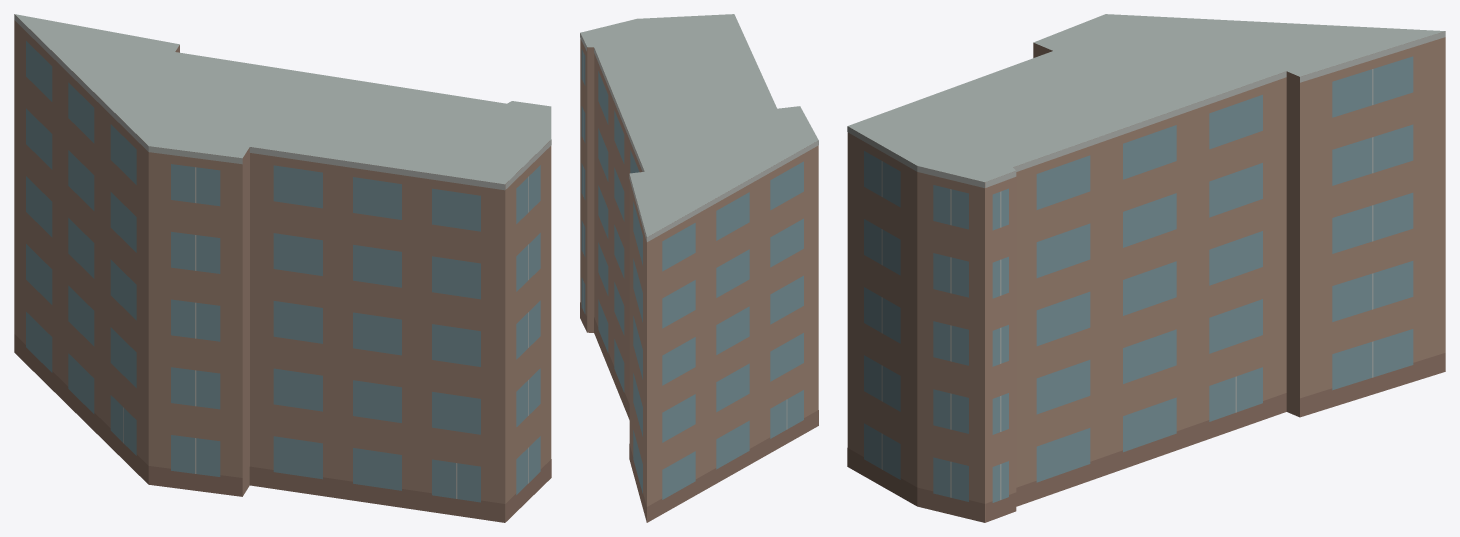
File: survey-upis-32869954.glb
3 renders of one model, left to right at view 1: azimuth 30°, elevation 25°; view 2: azimuth 150°, elevation 25°; view 3: azimuth 270°, elevation 25°, orthographic. The views are drawn at different scales.
Visible parts, largest first — view 1: survey-upis-32869954.tmp; view 2: survey-upis-32869954.tmp; view 3: survey-upis-32869954.tmp.
Boxes of the visible parts, <box> form: survey-upis-32869954.tmp: <box>14,14,551,522</box>; survey-upis-32869954.tmp: <box>580,14,818,522</box>; survey-upis-32869954.tmp: <box>847,14,1445,522</box>.
Bounding box in the file's own units: 14.63 × 13.8 × 21.97.
